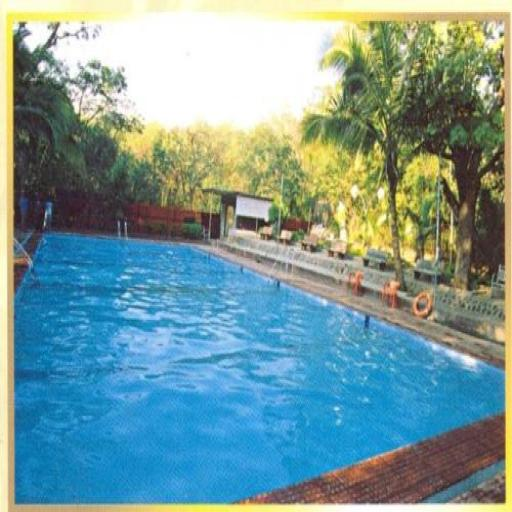swimming: (378, 274, 402, 312), (345, 266, 365, 299)
